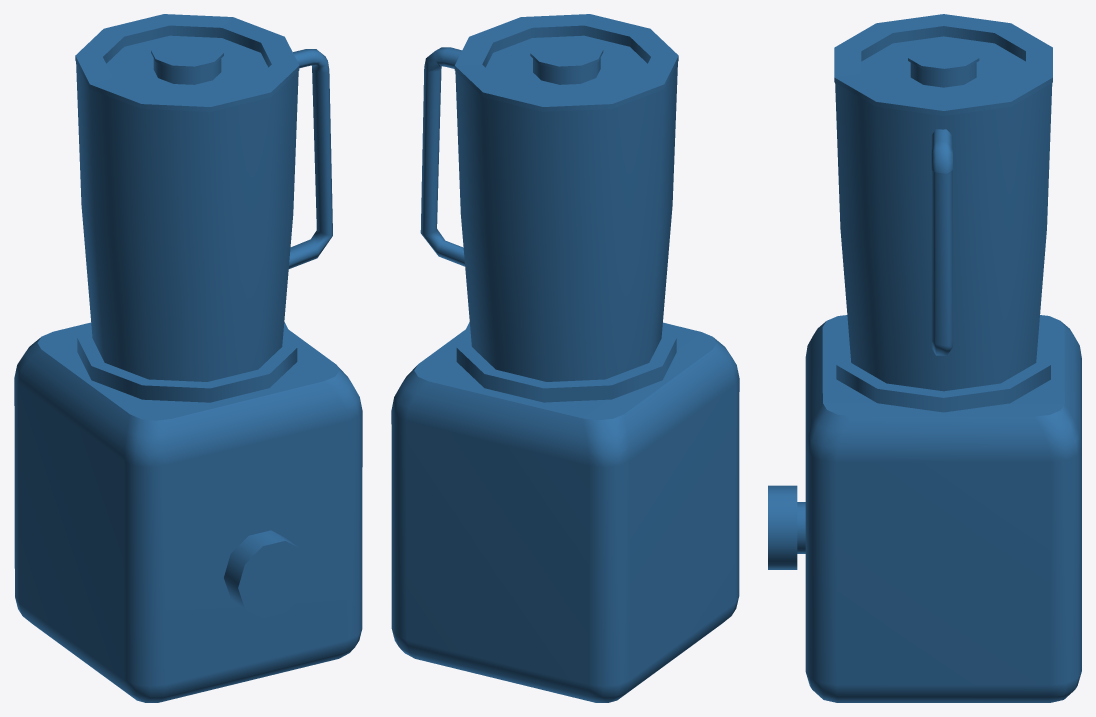
Rendered from licuadora.fbx.
3 renders of one model, left to right at view 1: azimuth 30°, elevation 25°; view 2: azimuth 150°, elevation 25°; view 3: azimuth 270°, elevation 25°, orthographic.
Visible parts, largest first — view 1: Tapa_Licuadora2; view 2: Tapa_Licuadora2; view 3: Tapa_Licuadora2.
Boxes of the visible parts, left/top/right/bottom form: Tapa_Licuadora2: left=14, top=14, right=362, bottom=702; Tapa_Licuadora2: left=391, top=14, right=739, bottom=702; Tapa_Licuadora2: left=768, top=14, right=1081, bottom=702.
Bounding box in the file's own units: 0.2115 × 0.4572 × 0.2162.
